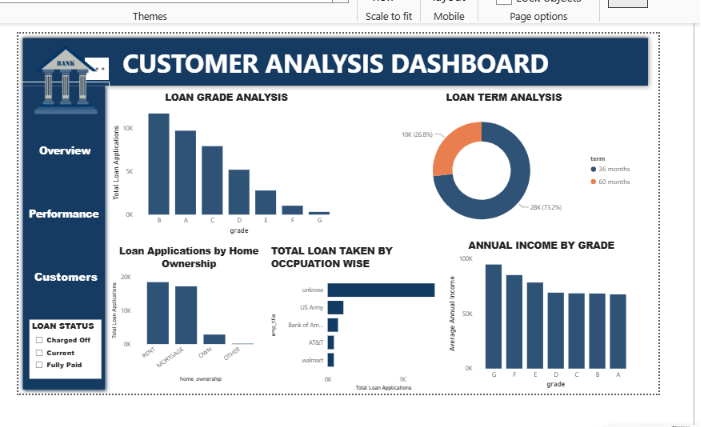

Layout of this report page (visuals, bound fields, positions):
{"tool":"powerbi","page":{"name":"Customer Analysis","canvas":[1280,720],"ordinal":2},"visuals":[{"type":"shape","box":[0,0,1268.5,113.4],"z":0},{"type":"shape","box":[0,96.3,181.8,624.6],"z":1000},{"type":"image","box":[4.3,0,181.8,184],"z":2000},{"type":"clusteredColumnChart","title":"Loan Applications by Home Ownership","fields":{"Category":["bank_loan_analysis bank_loan.home_ownership"],"Y":["bank_loan_analysis bank_loan.Total Loan Applications"]},"box":[182,420,318,282],"z":3000},{"type":"donutChart","title":"LOAN TERM ANALYSIS","fields":{"Category":["bank_loan_analysis bank_loan.term"],"Y":["bank_loan_analysis bank_loan.Total Loan Applications"]},"box":[704,114,534,294],"z":4000},{"type":"clusteredColumnChart","title":"LOAN GRADE ANALYSIS","fields":{"Y":["bank_loan_analysis bank_loan.Total Loan Applications"],"Category":["bank_loan_analysis bank_loan.grade"]},"box":[182,114,468,292],"z":5000},{"type":"clusteredColumnChart","title":"ANNUAL INCOME BY GRADE ","fields":{"Category":["bank_loan_analysis bank_loan.grade"],"Y":["bank_loan_analysis bank_loan.Average Annual Income"]},"box":[854,410,384,304],"z":6000},{"type":"clusteredBarChart","title":"TOTAL LOAN TAKEN BY OCCPUATION WISE ","fields":{"Category":["bank_loan_analysis bank_loan.emp_title"],"Y":["bank_loan_analysis bank_loan.Total Loan Applications"]},"box":[500,420,354,300],"z":7000},{"type":"actionButton","box":[18,198,150,72],"z":8000},{"type":"actionButton","box":[16,324,150,72],"z":9000},{"type":"actionButton","box":[20,450,150,72],"z":10000},{"type":"slicer","title":"LOAN STATUS","fields":{"Values":["bank_loan_analysis bank_loan.loan_status"]},"box":[22,572,144,118],"z":11000}]}

Visuals, with their boxes on the page's 1280x720 design canvas (x1, y1, x2, y2). These are canvas units, not pixel positions in the 701x427 screenshot, which may show the page scaled, cropped or inside an application window:
shape: left=0, top=0, right=1268, bottom=113
shape: left=0, top=96, right=182, bottom=721
image: left=4, top=0, right=186, bottom=184
"Loan Applications by Home Ownership" clusteredColumnChart: left=182, top=420, right=500, bottom=702
"LOAN TERM ANALYSIS" donutChart: left=704, top=114, right=1238, bottom=408
"LOAN GRADE ANALYSIS" clusteredColumnChart: left=182, top=114, right=650, bottom=406
"ANNUAL INCOME BY GRADE " clusteredColumnChart: left=854, top=410, right=1238, bottom=714
"TOTAL LOAN TAKEN BY OCCPUATION WISE " clusteredBarChart: left=500, top=420, right=854, bottom=720
actionButton: left=18, top=198, right=168, bottom=270
actionButton: left=16, top=324, right=166, bottom=396
actionButton: left=20, top=450, right=170, bottom=522
"LOAN STATUS" slicer: left=22, top=572, right=166, bottom=690
